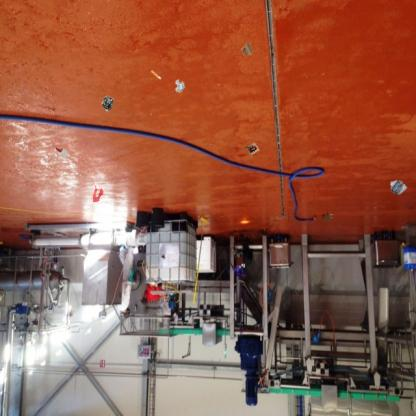dirty: (388, 179, 408, 196), (243, 140, 261, 158), (100, 94, 116, 113), (54, 145, 70, 161), (240, 41, 255, 58), (174, 78, 186, 94), (151, 70, 161, 80)
liquid: (91, 184, 105, 202), (321, 209, 335, 221)
